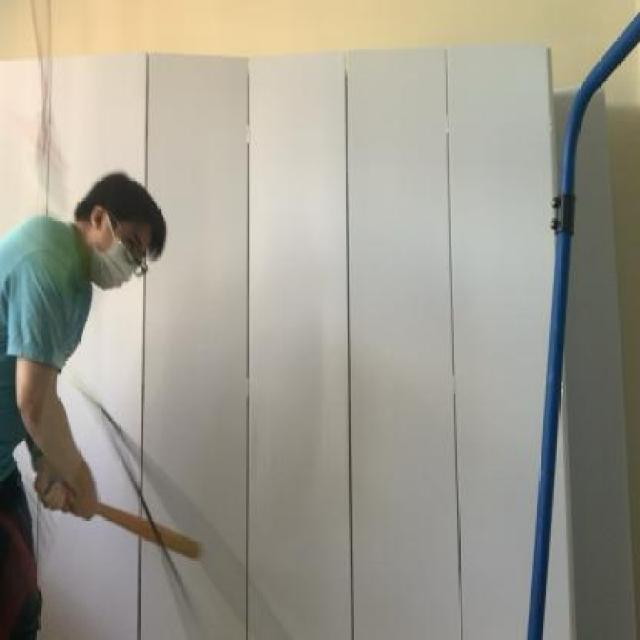baseball: (22, 202, 104, 295)
